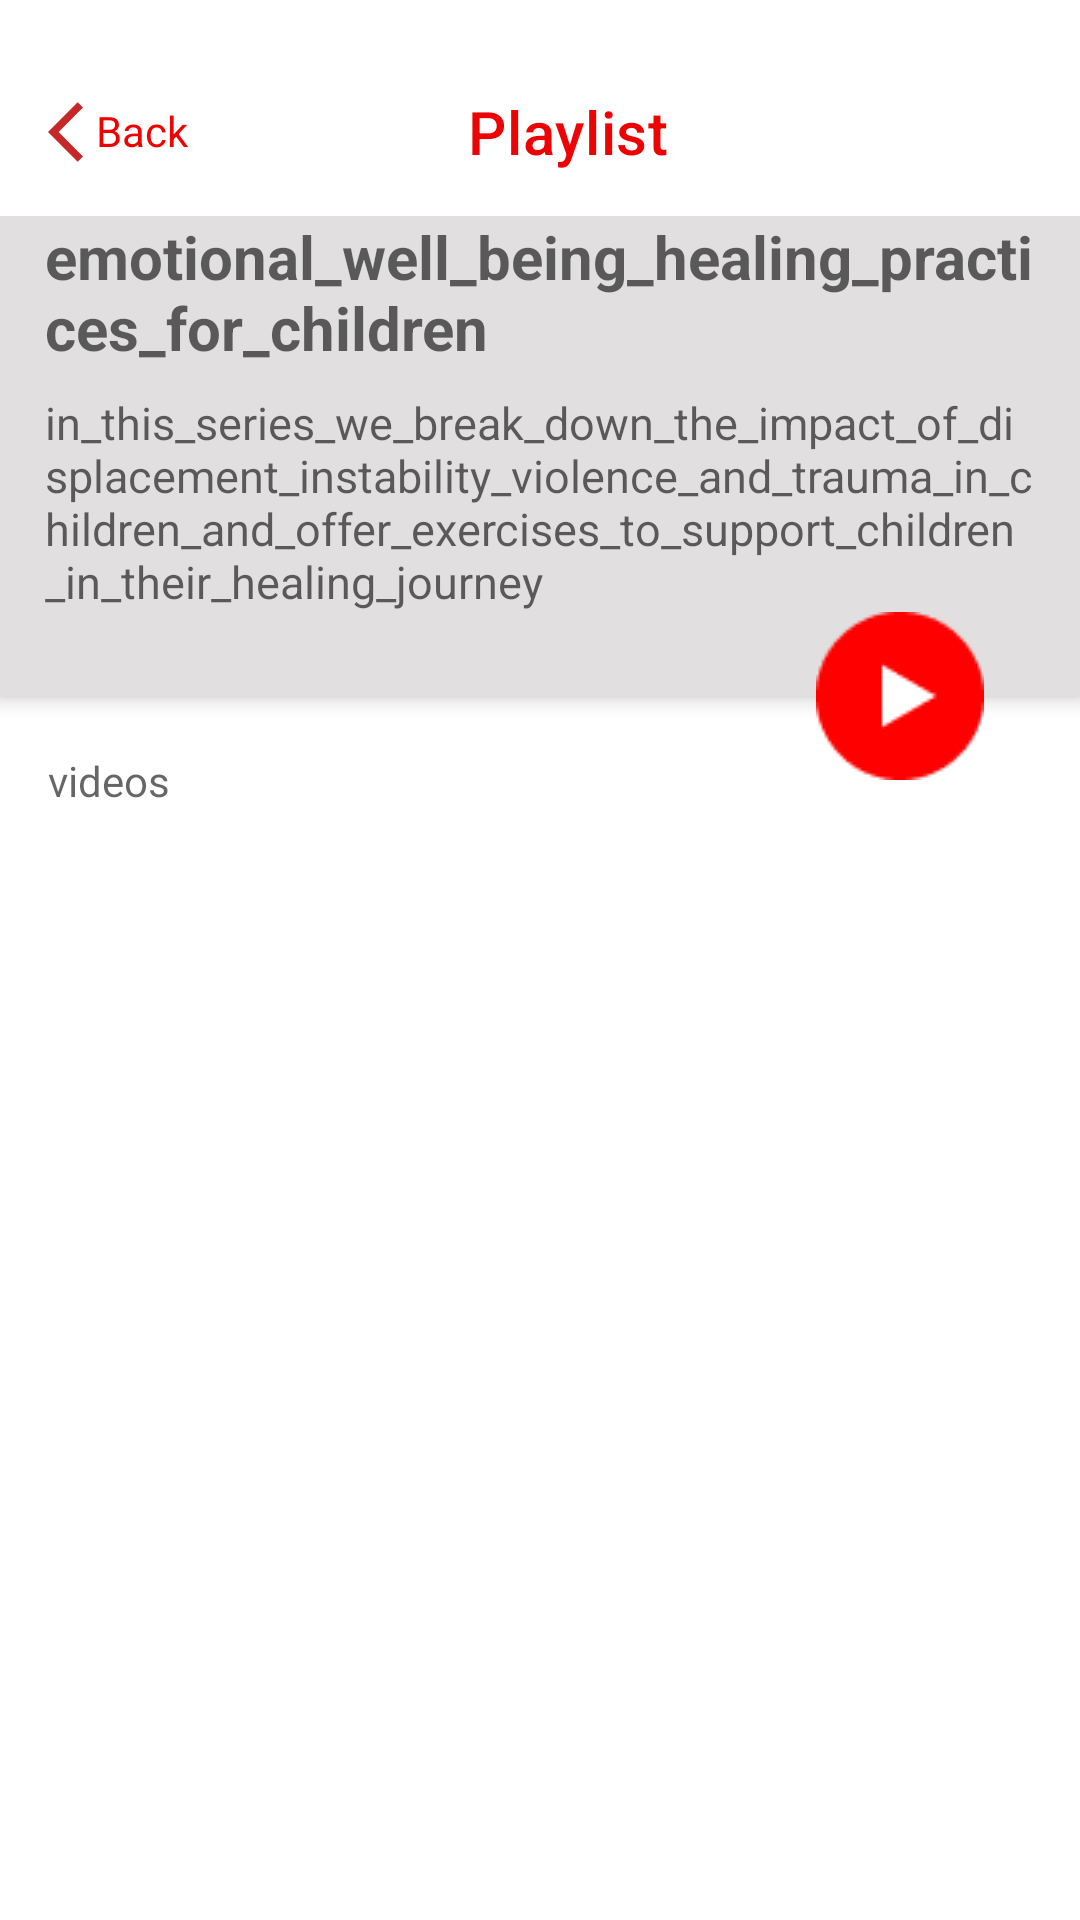

Icon click points for this 1080w x 1920h phone screenshot, format point (x, y):
play: point (900, 696)
